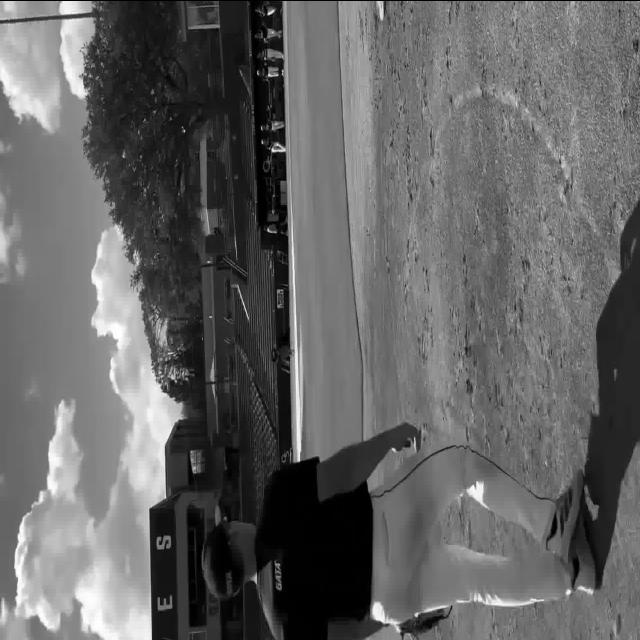baseball_glove: (395, 604, 452, 638)
shoe: (546, 469, 584, 558), (570, 513, 598, 593), (376, 0, 385, 20)
